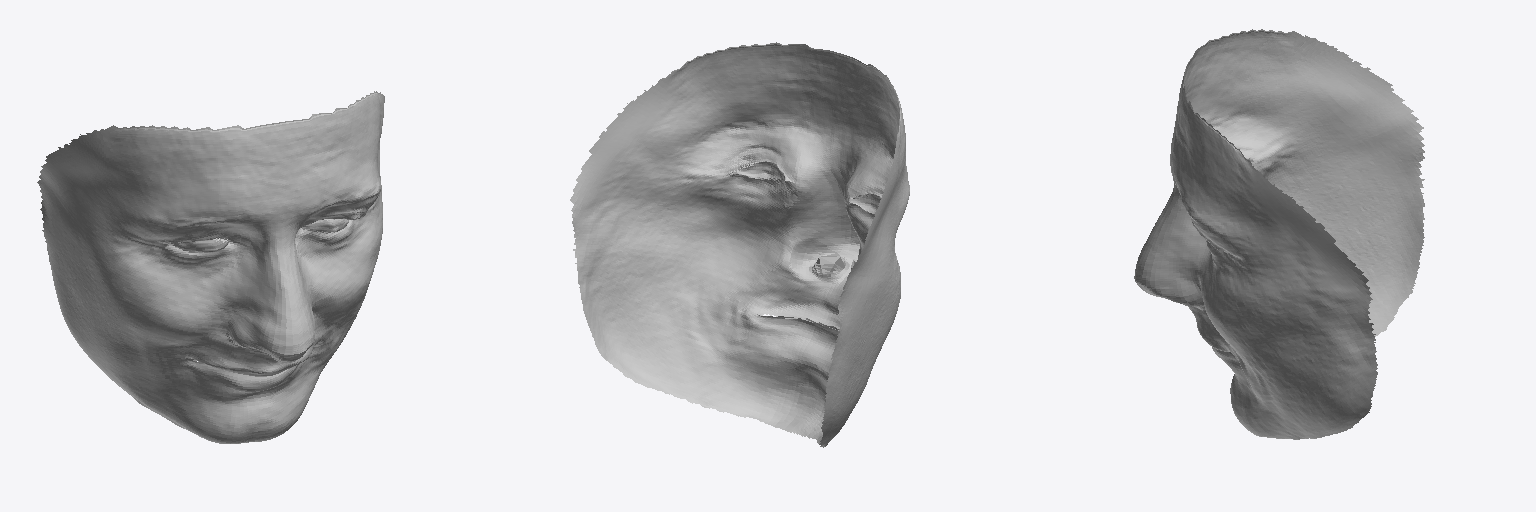
Rendered from 00133_0_hrn_high_mesh.obj.
3 renders of one model, left to right at view 1: azimuth 30°, elevation 25°; view 2: azimuth 150°, elevation 25°; view 3: azimuth 270°, elevation 25°, orthographic.
Bounding box in the file's own units: 1.49 × 1.63 × 1.22.